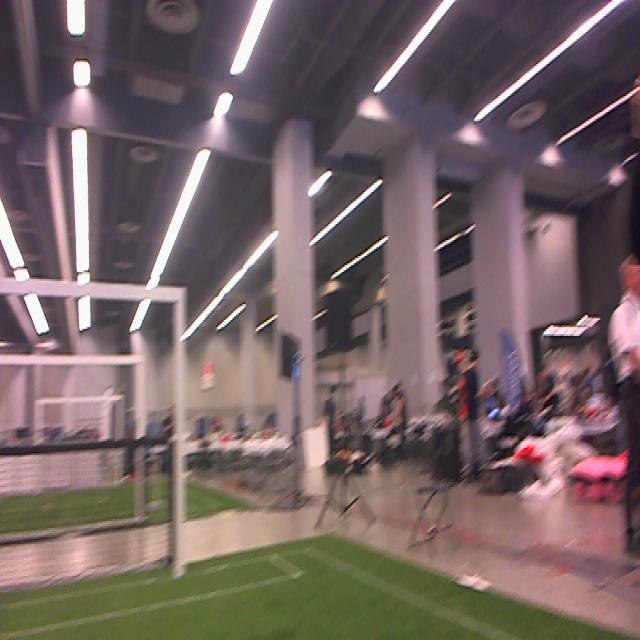goalpost: (173, 283, 186, 574)
